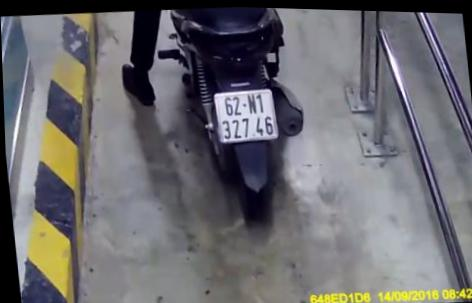LP: (210, 85, 280, 143)
